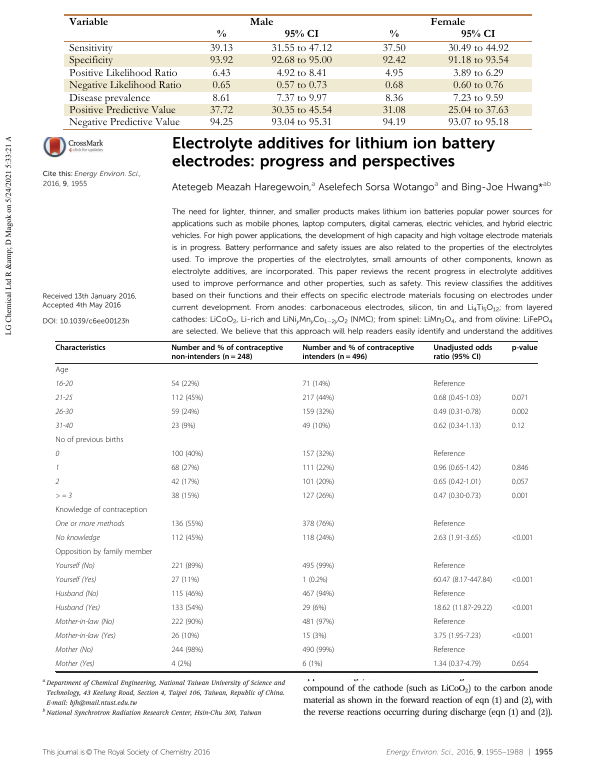borderless: (54, 340, 537, 671), (64, 12, 532, 129)
cell: (170, 344, 284, 362), (301, 344, 415, 362), (68, 80, 182, 92), (68, 117, 180, 129), (68, 67, 178, 79), (68, 105, 176, 117), (432, 344, 493, 362), (68, 92, 150, 104), (55, 548, 153, 558), (55, 506, 148, 516), (270, 43, 332, 55), (447, 43, 509, 55), (270, 55, 332, 67), (447, 55, 509, 67), (270, 105, 332, 117), (447, 105, 509, 117), (270, 117, 332, 129), (447, 117, 509, 129), (55, 436, 124, 446), (55, 520, 125, 529), (275, 67, 327, 79), (452, 67, 504, 79), (275, 80, 327, 92), (452, 80, 504, 92), (275, 92, 327, 104), (452, 92, 504, 104), (432, 576, 493, 586), (432, 604, 493, 614), (55, 632, 117, 641), (55, 618, 115, 627), (68, 43, 113, 55), (68, 55, 113, 67), (432, 394, 482, 404), (432, 408, 482, 418), (432, 422, 482, 432), (432, 464, 482, 474), (432, 478, 482, 488), (432, 492, 482, 502), (432, 534, 482, 544), (432, 632, 482, 642), (432, 660, 482, 670), (55, 344, 107, 353), (55, 534, 101, 544), (55, 604, 101, 613), (68, 16, 109, 26), (55, 590, 99, 599), (55, 576, 97, 585), (55, 562, 96, 571), (55, 660, 95, 669), (429, 16, 465, 26), (55, 646, 94, 655), (432, 380, 466, 390), (170, 394, 204, 404), (301, 394, 335, 404), (301, 408, 335, 418), (170, 450, 204, 460), (301, 450, 335, 460), (432, 450, 466, 460), (301, 464, 335, 474), (301, 478, 335, 488), (301, 492, 335, 502), (170, 520, 204, 530), (301, 520, 335, 530), (432, 520, 466, 530), (170, 534, 204, 544), (301, 534, 335, 544), (170, 562, 204, 572), (301, 562, 335, 572), (432, 562, 466, 572), (170, 590, 204, 600), (301, 590, 335, 600), (432, 590, 466, 600), (170, 604, 204, 614), (170, 618, 204, 628), (301, 618, 335, 628), (432, 618, 466, 628), (170, 646, 204, 656), (301, 646, 335, 656), (432, 646, 466, 656), (283, 29, 319, 38), (460, 29, 496, 38), (170, 380, 200, 390), (301, 380, 331, 390), (170, 408, 200, 418), (301, 422, 331, 432), (170, 464, 200, 474), (170, 478, 200, 488), (170, 492, 200, 502), (170, 576, 200, 586), (170, 632, 200, 642), (208, 43, 233, 55), (381, 43, 406, 55), (208, 55, 233, 67), (381, 55, 406, 67), (208, 105, 233, 117), (381, 105, 406, 117), (208, 117, 233, 129), (381, 117, 406, 129), (301, 576, 329, 586), (170, 422, 196, 432), (301, 604, 327, 614), (301, 632, 327, 642), (248, 16, 274, 26), (511, 344, 538, 353), (211, 67, 231, 79), (211, 80, 231, 92), (211, 92, 231, 104), (511, 534, 534, 544), (511, 576, 534, 586), (511, 604, 534, 614), (511, 632, 534, 642), (384, 67, 403, 79), (384, 80, 403, 92), (384, 92, 403, 104), (170, 660, 192, 670), (301, 660, 323, 670), (511, 394, 529, 404), (511, 408, 529, 418), (511, 464, 529, 474), (511, 478, 529, 488), (511, 492, 529, 502), (511, 660, 529, 670), (55, 380, 73, 389), (55, 394, 73, 403), (55, 408, 73, 417), (55, 422, 73, 431), (55, 492, 73, 501), (511, 422, 526, 432), (55, 366, 69, 376), (215, 29, 226, 38), (388, 29, 399, 38), (55, 450, 60, 459), (55, 464, 60, 473), (55, 478, 60, 487)
